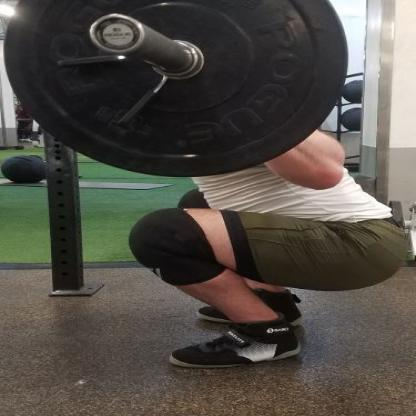Barbell: (89, 15, 149, 57)
